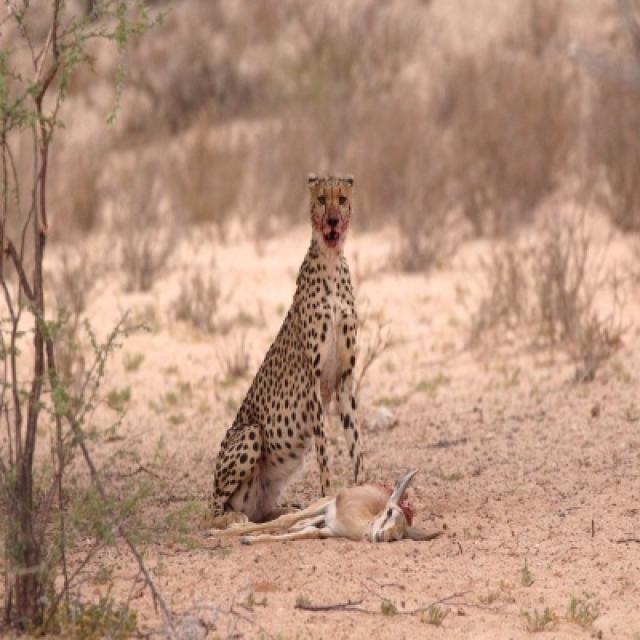Cheetah: (207, 163, 367, 549)
